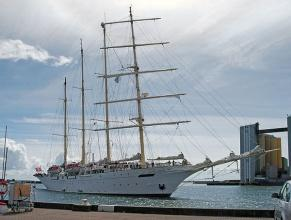fanchuan: (31, 12, 277, 196)
